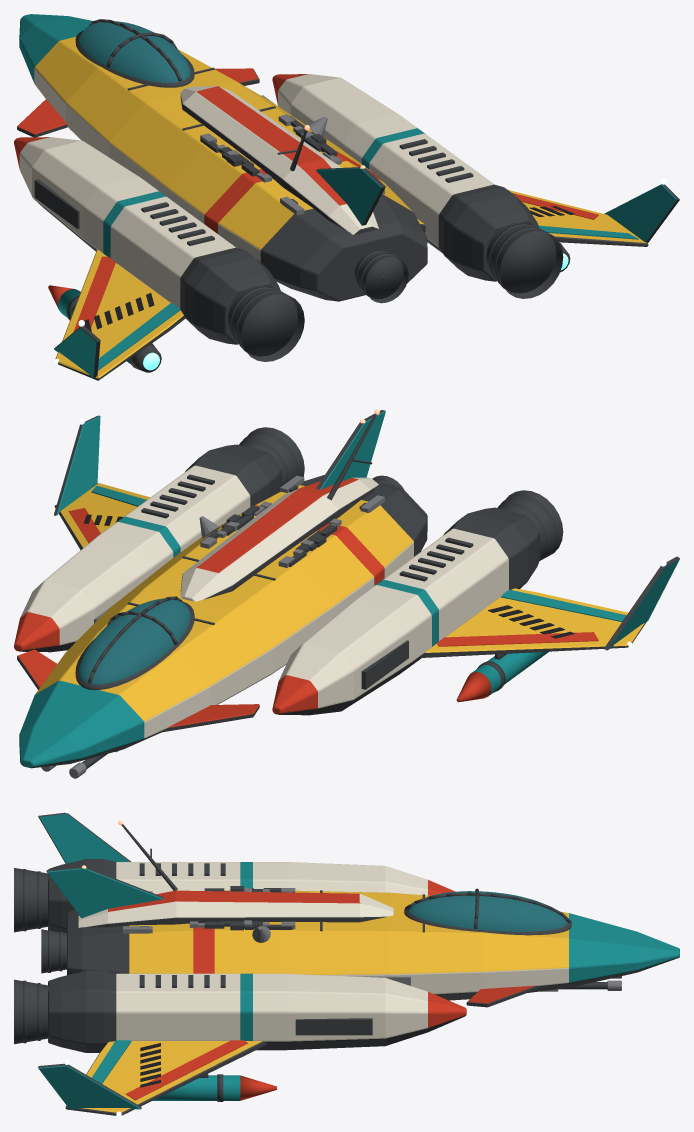
File: jumpship.glb
The picture shows the model from 3 angles, top to bottom: view 1: azimuth 30°, elevation 25°; view 2: azimuth 150°, elevation 25°; view 3: azimuth 270°, elevation 25°; orthographic projection. The views are drawn at different scales.
Visible parts, largest first — view 1: Engine_Nacelle, Fuselage, Engine_Bells, Dorsal_Spine, Wing, Canopy, Wingtip_Fin, Nacelle_Vents, Greebles, Tail_Fin, Wing_Flap, Wing_Stripe (+4 smaller); view 2: Engine_Nacelle, Fuselage, Dorsal_Spine, Wing, Canopy, Wingtip_Fin, Engine_Bells, Nacelle_Vents, Greebles, Canard, Wing_Pods, Wing_Stripe (+5 smaller); view 3: Engine_Nacelle, Fuselage, Dorsal_Spine, Engine_Bells, Wing, Wingtip_Fin, Canopy, Tail_Fin, Nacelle_Vents, Wing_Pods, Greebles, Canopy_Frame (+6 smaller).
Part boxes in pixels (box(x1,y1,x2,y2)): Engine_Nacelle: box(14, 74, 539, 344); Fuselage: box(19, 14, 427, 301); Engine_Bells: box(227, 222, 563, 361); Dorsal_Spine: box(180, 86, 378, 234); Wing: box(55, 190, 648, 380); Canopy: box(79, 21, 190, 82); Wingtip_Fin: box(54, 184, 679, 378); Nacelle_Vents: box(34, 139, 473, 245); Greebles: box(127, 67, 384, 215); Tail_Fin: box(316, 167, 385, 225); Wing_Flap: box(98, 225, 638, 370); Wing_Stripe: box(73, 193, 598, 331); Engine_Nacelle: box(14, 444, 540, 715); Fuselage: box(19, 475, 427, 768); Dorsal_Spine: box(180, 477, 378, 601); Wing: box(54, 483, 646, 657); Canopy: box(79, 598, 190, 684); Wingtip_Fin: box(54, 415, 679, 650); Engine_Bells: box(239, 427, 563, 560); Nacelle_Vents: box(141, 474, 473, 689); Greebles: box(127, 475, 384, 625); Canard: box(17, 649, 259, 732); Wing_Pods: box(456, 651, 548, 702); Wing_Stripe: box(68, 508, 598, 646); Engine_Nacelle: box(48, 859, 466, 1052); Fuselage: box(67, 890, 679, 1000); Dorsal_Spine: box(78, 890, 393, 927); Engine_Bells: box(14, 868, 66, 1044); Wing: box(65, 1041, 267, 1115); Wingtip_Fin: box(38, 812, 141, 1109); Canopy: box(408, 891, 567, 931); Tail_Fin: box(46, 866, 163, 918); Nacelle_Vents: box(139, 863, 372, 1035); Wing_Pods: box(152, 1074, 276, 1101); Greebles: box(123, 886, 424, 933); Canopy_Frame: box(404, 888, 571, 935).
Bounding box in the file's own units: 7.04 × 2.28 × 7.8.
